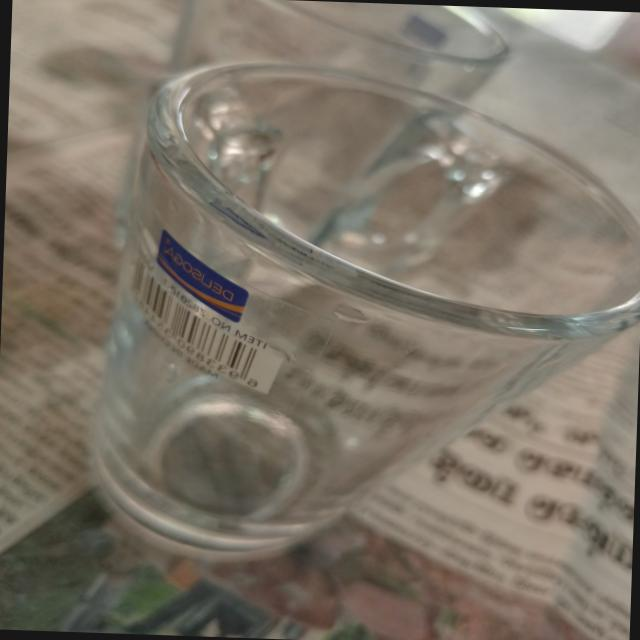glass-VX4N: (77, 57, 640, 572), (148, 0, 508, 190)
